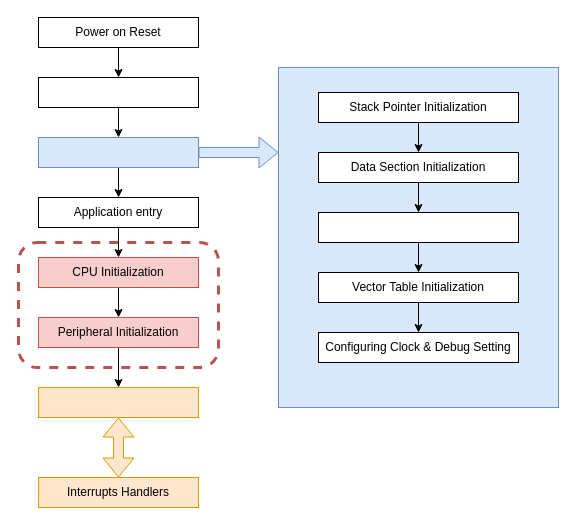
This 576x525 diagram has some shape labels left out. The shapes that lost their labels are listed below. From the top down, each one's centre as x and y in pixels, then its label:
At (118,92): "Memory Alias".
At (118,152): "Startup code".
At (418,227): "BSS Section Initialization".
At (118,402): "Main Loop".
